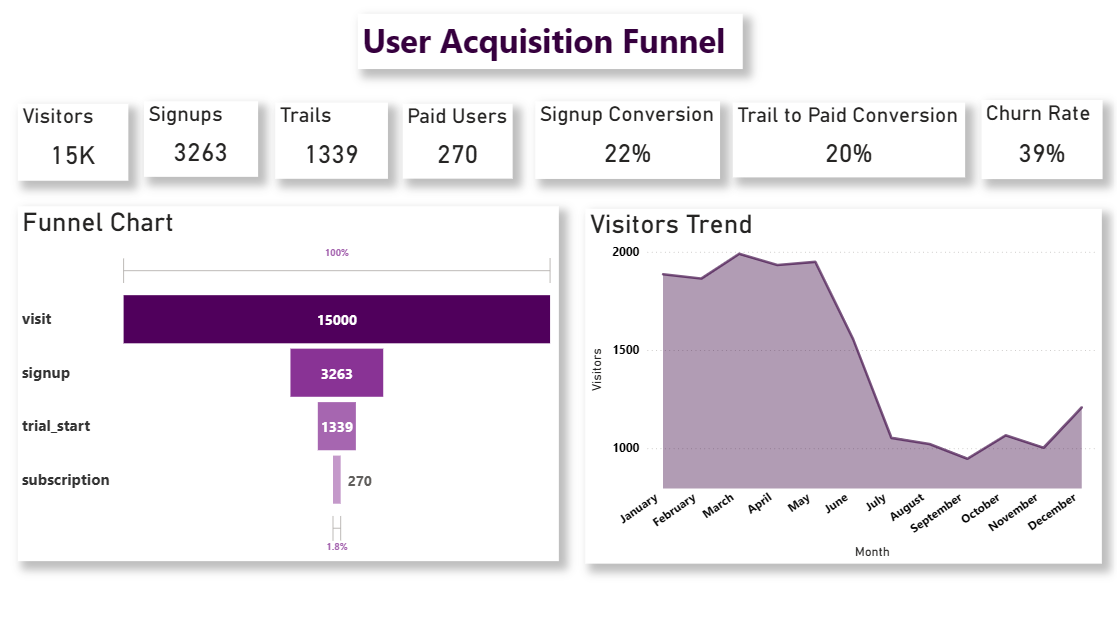

Layout of this report page (visuals, bound fields, positions):
{"tool":"powerbi","page":{"name":"Executive Overview","canvas":[1280,720],"ordinal":0},"visuals":[{"type":"card","title":"Visitors","fields":{"Values":["Measures_table.Total visitors"]},"box":[22,118,126,88],"z":0},{"type":"textbox","box":[410,15.7,440,62.9],"z":1000},{"type":"card","title":"Signups","fields":{"Values":["Measures_table.Total Signups"]},"box":[166,116,130,86],"z":2000},{"type":"card","title":"Trails","fields":{"Values":["Measures_table.Total Trails"]},"box":[315.7,117.1,128.6,87.1],"z":3000},{"type":"card","title":"Paid Users","fields":{"Values":["Measures_table.Paid Users"]},"box":[461.4,118.6,125.7,85.7],"z":4000},{"type":"card","title":"Signup Conversion","fields":{"Values":["Measures_table.Signup Conversion"]},"box":[612.9,115.7,211.4,88.6],"z":5000},{"type":"card","title":"Trail to Paid Conversion","fields":{"Values":["Measures_table.Trail to Paid Conversion"]},"box":[838.6,117.1,265.7,85.7],"z":6000},{"type":"card","title":"Churn Rate","fields":{"Values":["Measures_table.Churn Rate"]},"box":[1122.9,114.3,138.6,90],"z":7000},{"type":"funnel","title":"Funnel Chart","fields":{"Category":["events.event_name"],"Y":["Measures_table.Unique Users"]},"box":[21.4,235.7,618.6,405.7],"z":8000},{"type":"lineChart","title":"Visitors Trend","fields":{"Category":["events.event_time.Variation.Date Hierarchy.Month"],"Y":["Measures_table.Visitors"]},"box":[670,238.6,590,405.7],"z":9000}]}

Visuals, with their boxes in screenshot pixels (x1, y1, x2, y2), scaled from the page's 1280x720 canvas onto the 1117x625 screenshot:
"Visitors" card: bbox(19, 102, 129, 179)
textbox: bbox(358, 14, 742, 68)
"Signups" card: bbox(145, 101, 258, 175)
"Trails" card: bbox(275, 102, 388, 177)
"Paid Users" card: bbox(403, 103, 512, 177)
"Signup Conversion" card: bbox(535, 100, 719, 177)
"Trail to Paid Conversion" card: bbox(732, 102, 964, 176)
"Churn Rate" card: bbox(980, 99, 1101, 177)
"Funnel Chart" funnel: bbox(19, 205, 558, 557)
"Visitors Trend" lineChart: bbox(585, 207, 1100, 559)
